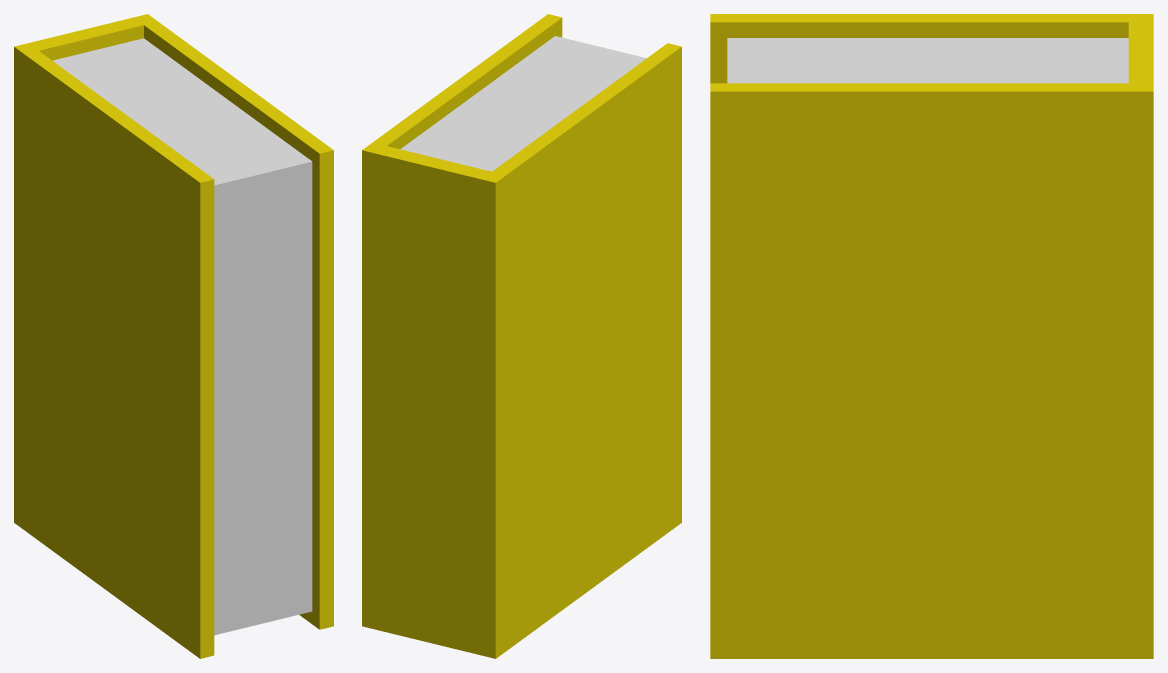
The model's file is libro4.FBX.
3 views of the same model, side by side, from view 1: azimuth 30°, elevation 25°; view 2: azimuth 150°, elevation 25°; view 3: azimuth 270°, elevation 25° (orthographic). The views are drawn at different scales.
Parts seen in each view (by area): view 1: Object003; view 2: Object003; view 3: Object003.
Boxes of the visible parts, left/top/right/bottom form: Object003: left=14, top=14, right=333, bottom=658; Object003: left=362, top=14, right=681, bottom=658; Object003: left=710, top=14, right=1153, bottom=658.
Bounding box in the file's own units: 1.33 × 4.51 × 3.2.
